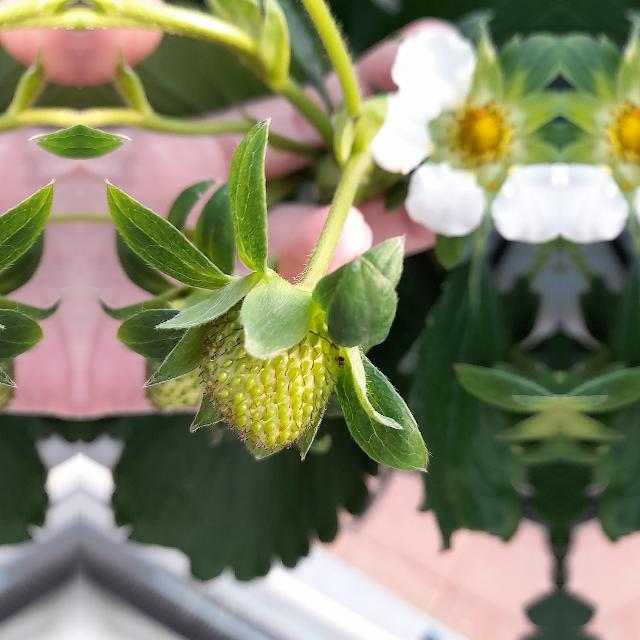Health_25: (198, 267, 344, 455)
